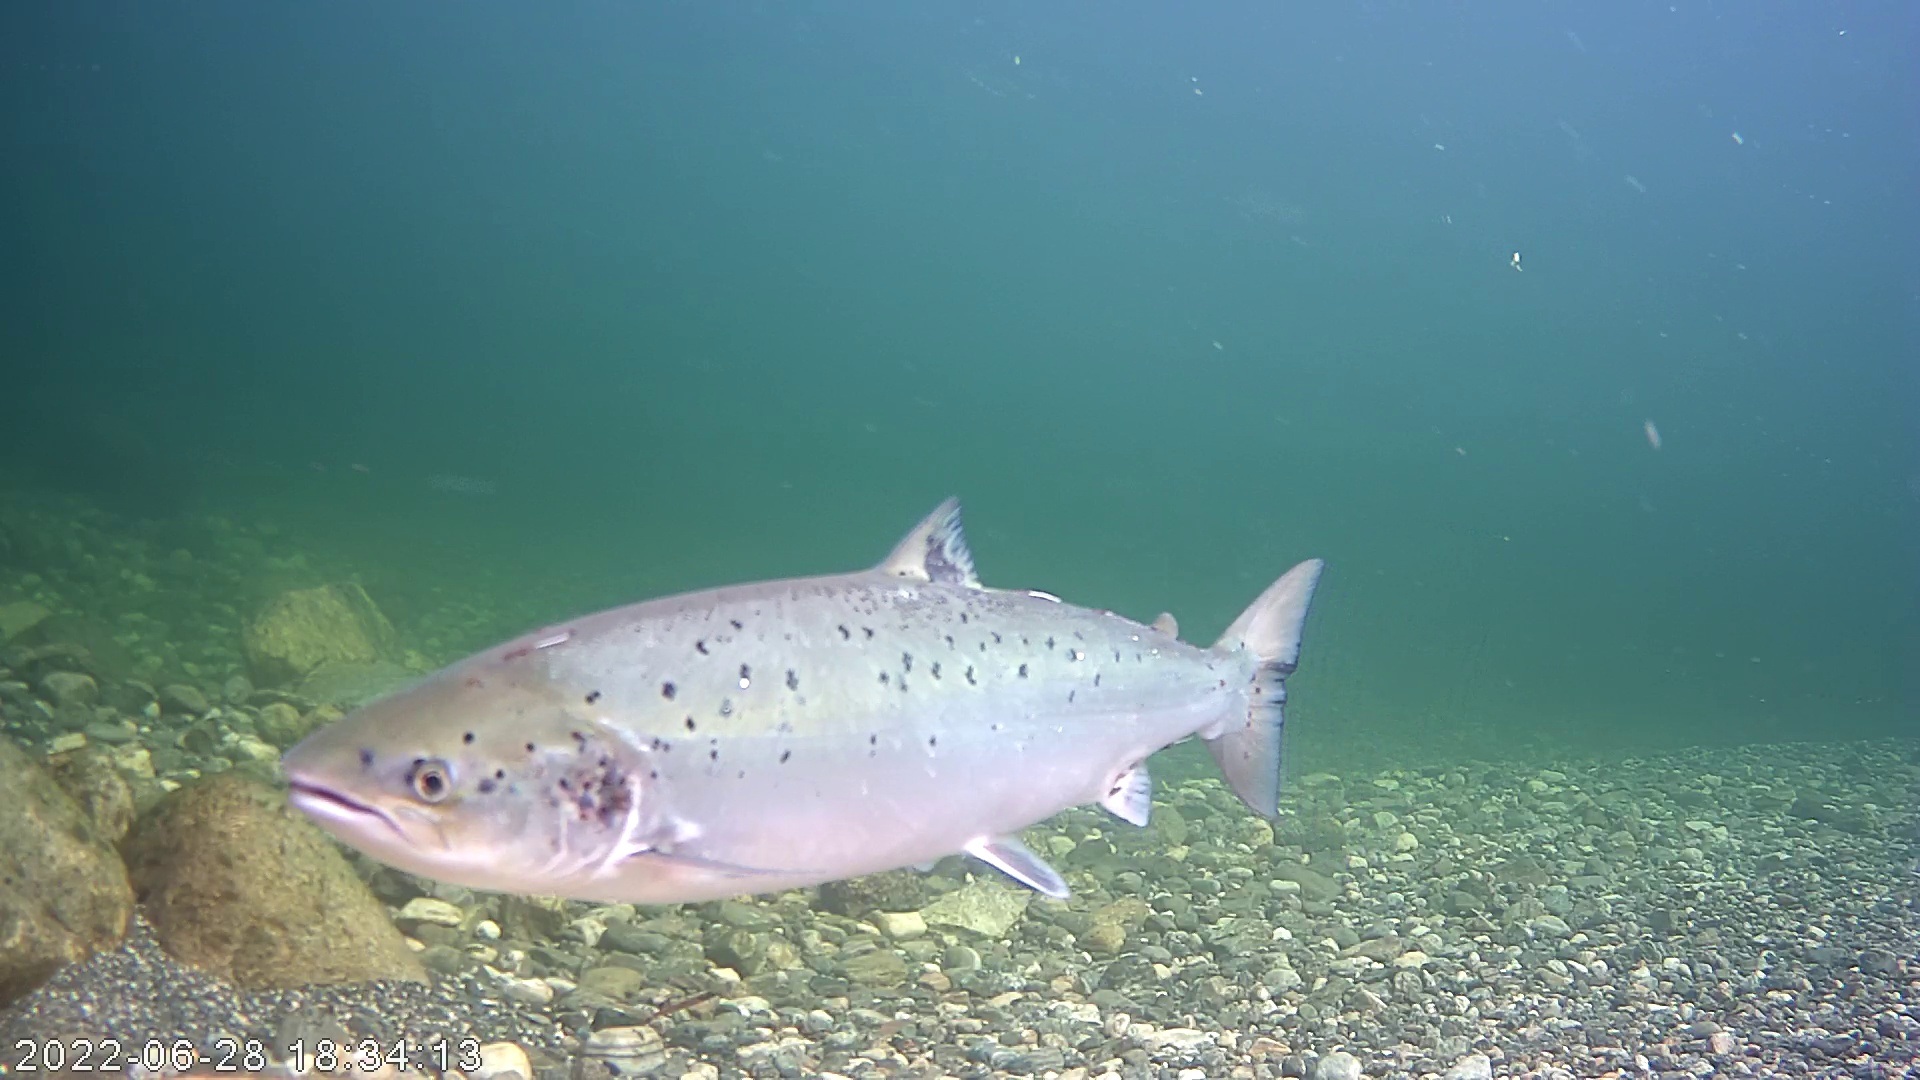salmon: (266, 459, 1325, 938)
